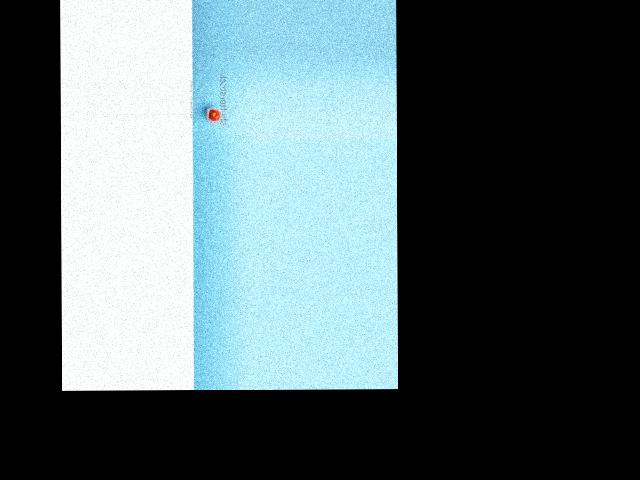tomato: (208, 109, 219, 120)
